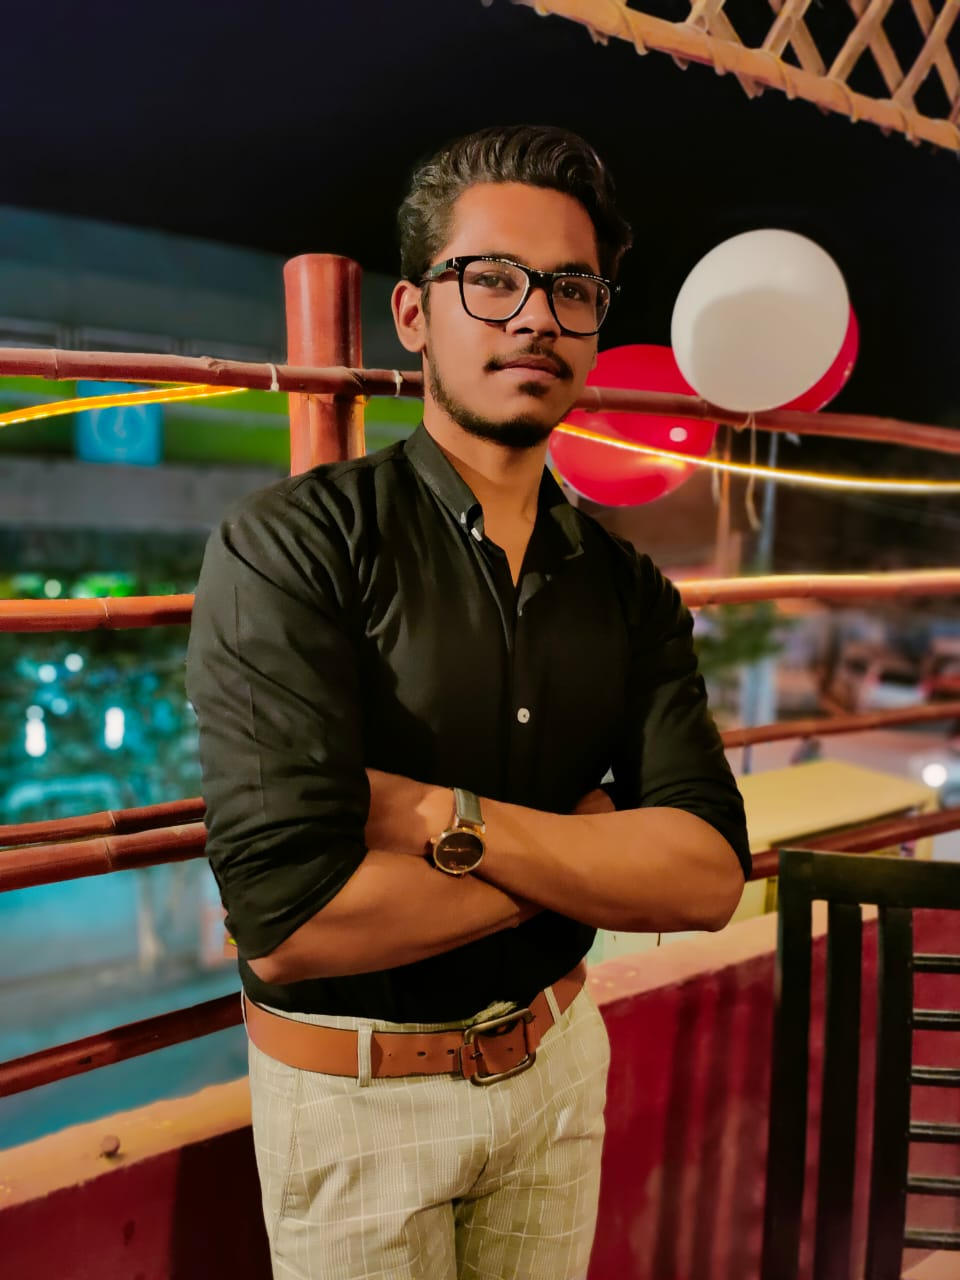NoMask: (448, 241, 599, 449)
